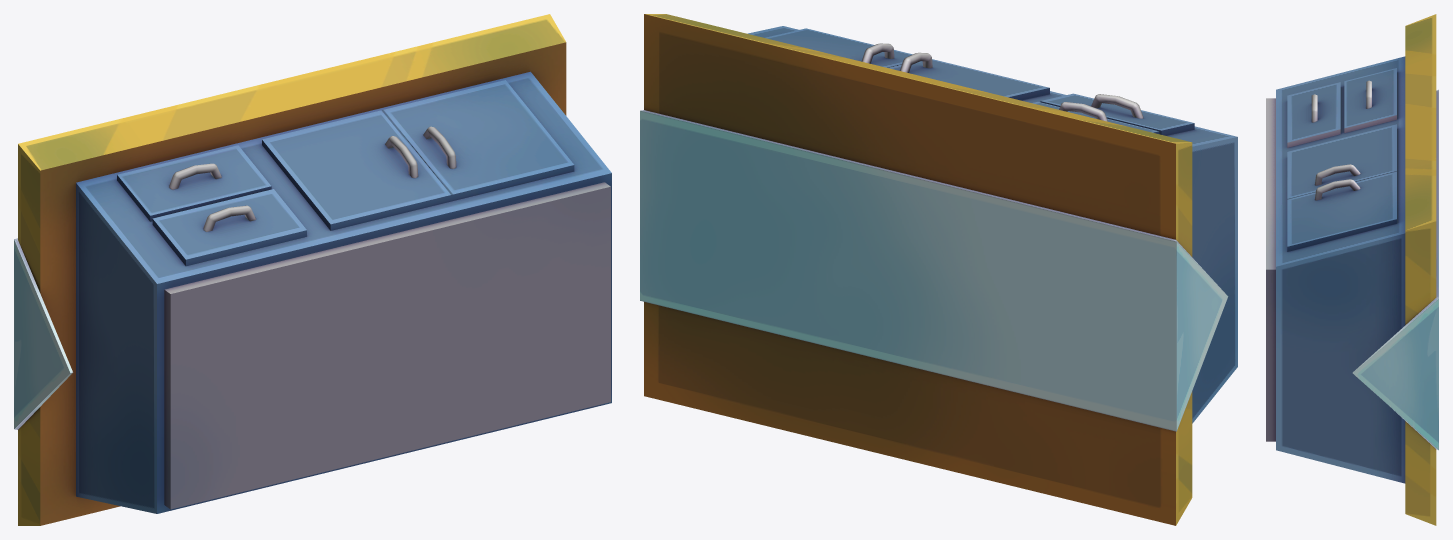
The model's file is KitchenIsland.fbx.
3 renders of one model, left to right at view 1: azimuth 30°, elevation 25°; view 2: azimuth 150°, elevation 25°; view 3: azimuth 270°, elevation 25°, orthographic. The views are drawn at different scales.
Visible parts, largest first — view 1: KitchenIsland; view 2: KitchenIsland; view 3: KitchenIsland.
Part boxes in pixels (box(x1,y1,x2,y2)): KitchenIsland: box(14, 14, 611, 525); KitchenIsland: box(640, 14, 1237, 525); KitchenIsland: box(1266, 14, 1438, 525).
Size of the model in its own units: 151 by 103 by 52.81.
1 material, 1 textured.
